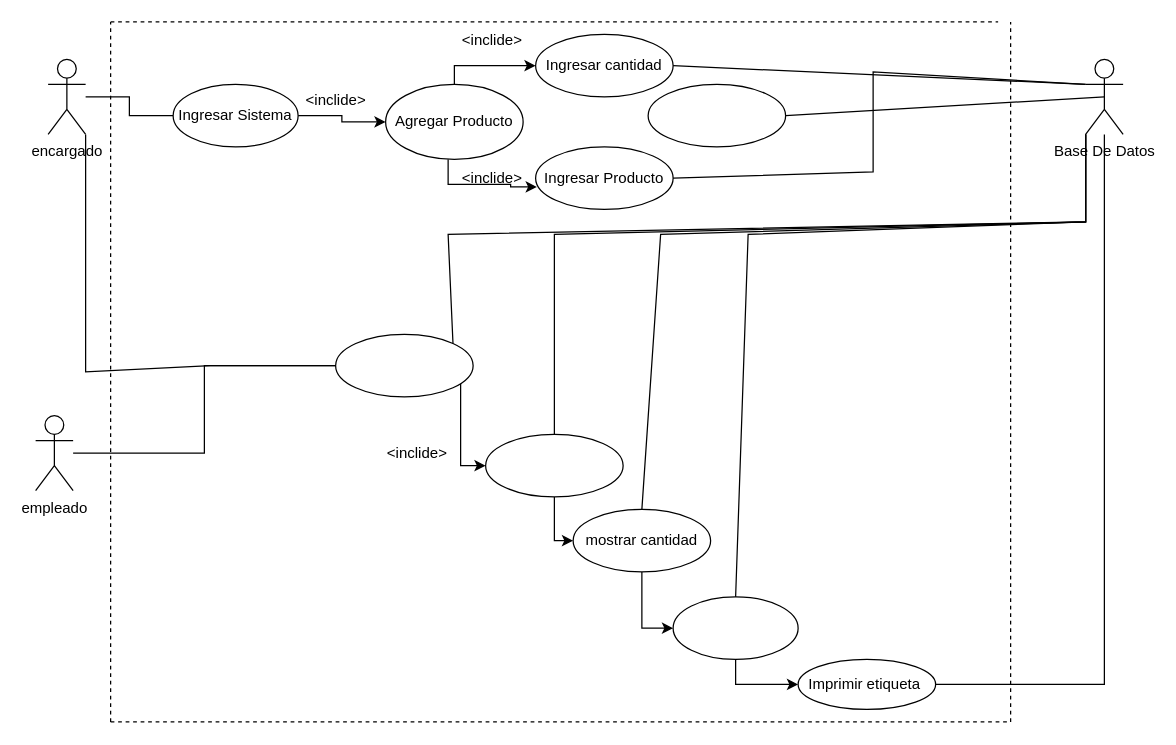
This 1176x745 diagram has some shape labels left out. The centre of each missing label's shape, as x and y in pixels:
"Ingresar Contraseña" belongs at pixel 403 365.
"Ingresar Ubicacion" belongs at pixel 716 115.
"mostrar producto" belongs at pixel 553 465.
"Mostrar ubicacion" belongs at pixel 735 627.
